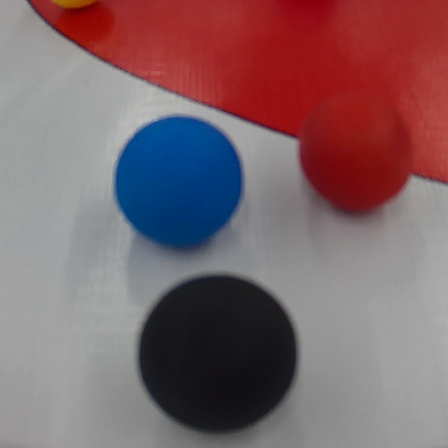black: (138, 275, 297, 430)
blue: (102, 107, 246, 249)
red: (301, 95, 411, 217)
red_base: (4, 0, 448, 197)
